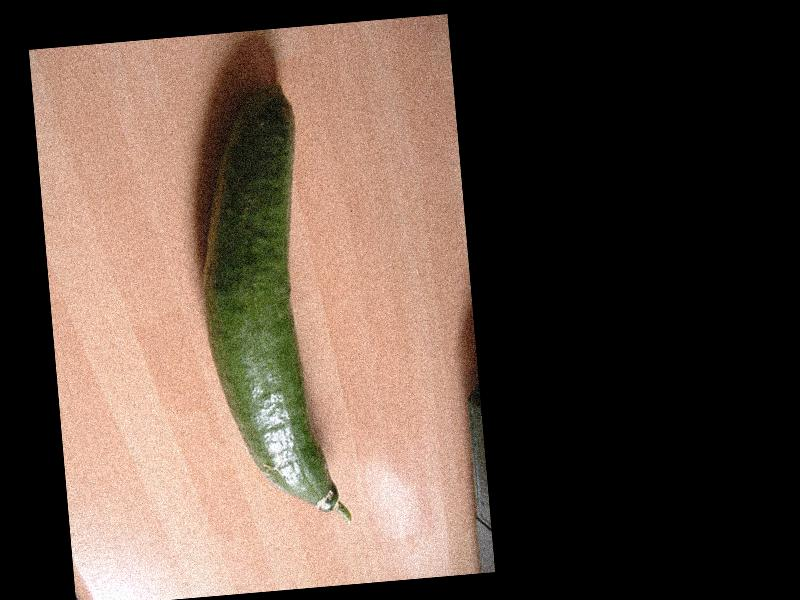Cucumber: (183, 78, 351, 533)
